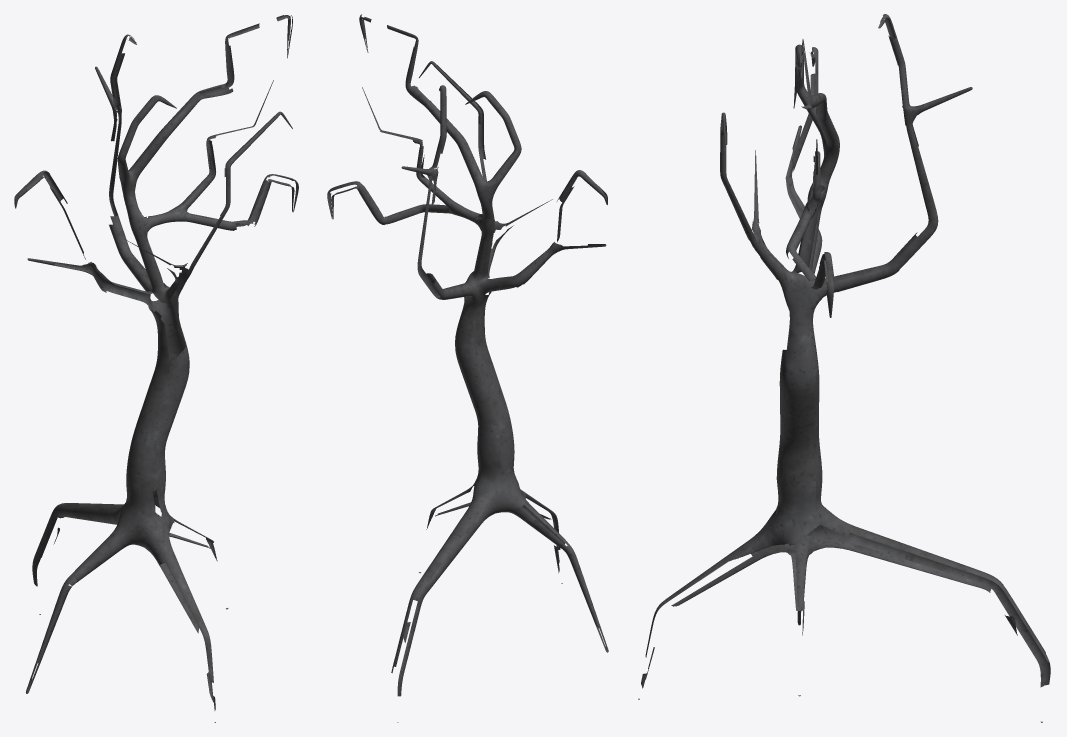
Rendered from tree_03.fbx.
The picture shows the model from 3 angles, left to right: view 1: azimuth 30°, elevation 25°; view 2: azimuth 150°, elevation 25°; view 3: azimuth 270°, elevation 25°; orthographic projection. The views are drawn at different scales.
Visible parts, largest first — view 1: tree_03; view 2: tree_03; view 3: tree_03.
Part boxes in pixels (x1=…): tree_03: x1=14, y1=15, x2=298, y2=722; tree_03: x1=327, y1=14, x2=608, y2=722; tree_03: x1=638, y1=14, x2=1050, y2=722.
Size of the model in its own units: 597 by 1260 by 640.
